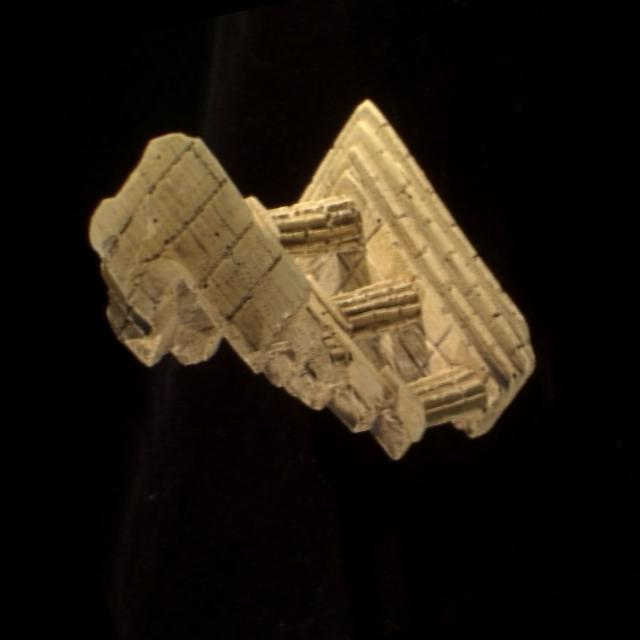Instance-Segmentation: (87, 99, 532, 456)
